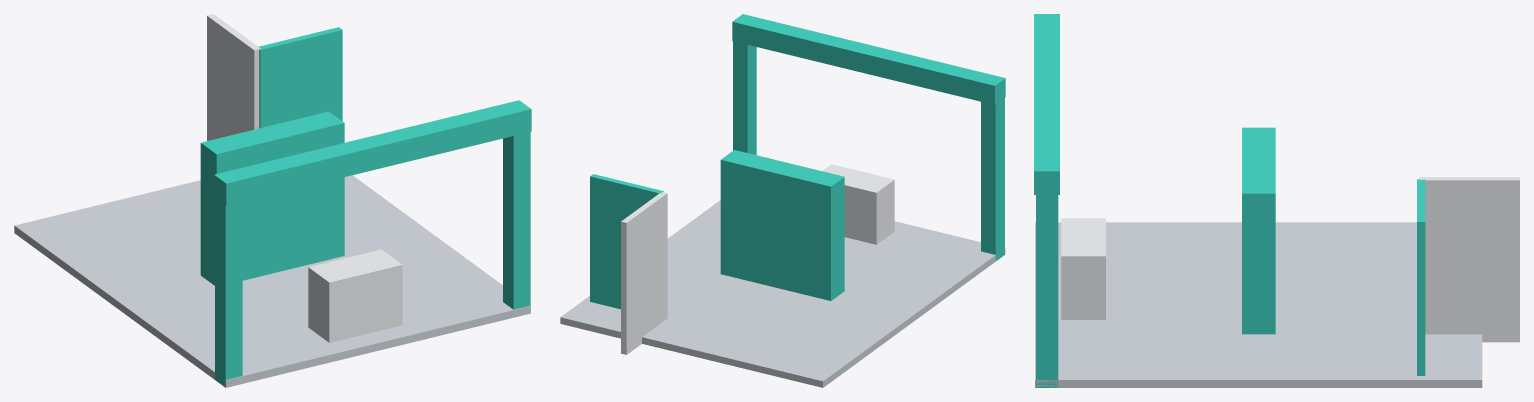
The picture shows the model from 3 angles, left to right: view 1: azimuth 30°, elevation 25°; view 2: azimuth 150°, elevation 25°; view 3: azimuth 270°, elevation 25°; orthographic projection. The views are drawn at different scales.
Parts seen in each view (by area): view 1: Exhibition Booth Concept; view 2: Exhibition Booth Concept; view 3: Exhibition Booth Concept.
Part boxes in pixels (left/top/right/bottom): Exhibition Booth Concept: left=14, top=14, right=531, bottom=387; Exhibition Booth Concept: left=560, top=14, right=1005, bottom=387; Exhibition Booth Concept: left=1034, top=14, right=1519, bottom=387.
Bounding box in the file's own units: 5 × 3.2 × 6.52.
